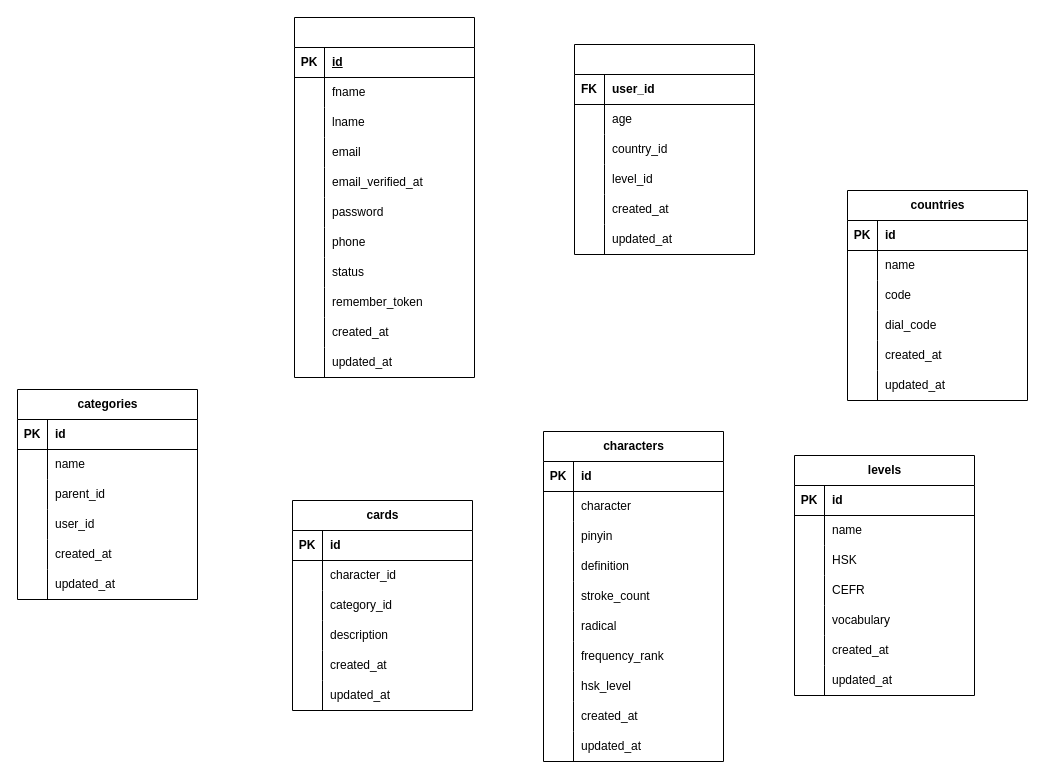
Image size: 1045x779. Some labels were removed from this diagram. Each missing label, with the box of its shape:
user_meta: (574, 44, 754, 254)
users: (294, 16, 474, 378)
